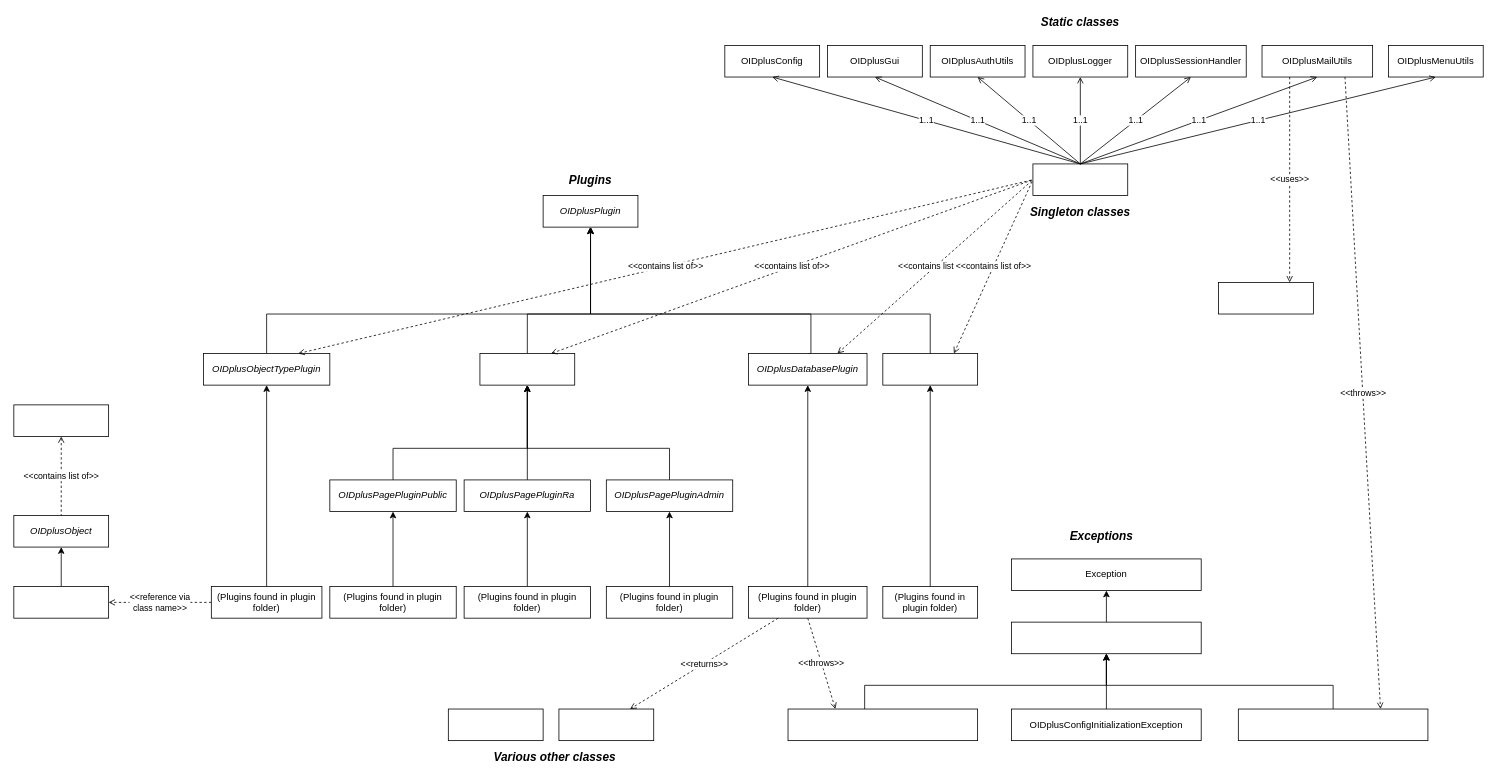
This 1497x777 diagram has some shape labels left out. The centre of each missing label's shape, as x and y in pixels:
(Object type belonging to plugin): (x=61, y=602)
OIDplus: (x=1080, y=179)
OIDplusAltId: (x=61, y=420)
OIDplusAuthPlugin: (x=930, y=369)
OIDplusException: (x=1106, y=637)
OIDplusMailException: (x=1333, y=724)
OIDplusPagePlugin: (x=527, y=369)
OIDplusQueryResult: (x=606, y=724)
OIDplusRA: (x=495, y=724)
OIDplusSQLException: (x=882, y=724)
SecureMailer: (x=1265, y=298)
